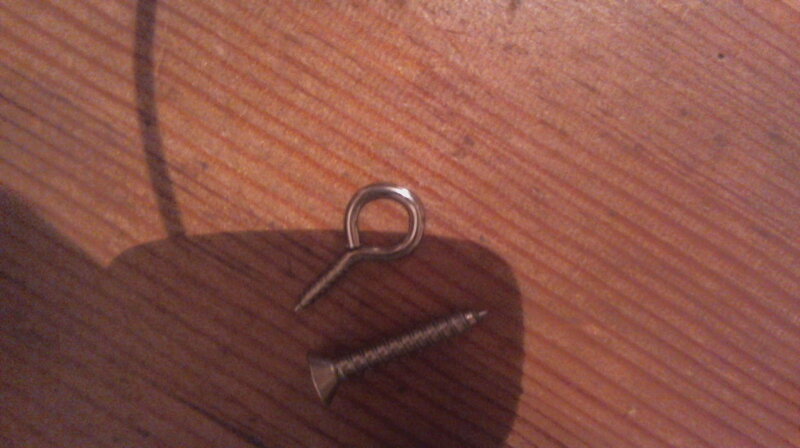O001: (290, 181, 424, 316)
S001: (304, 306, 489, 406)
